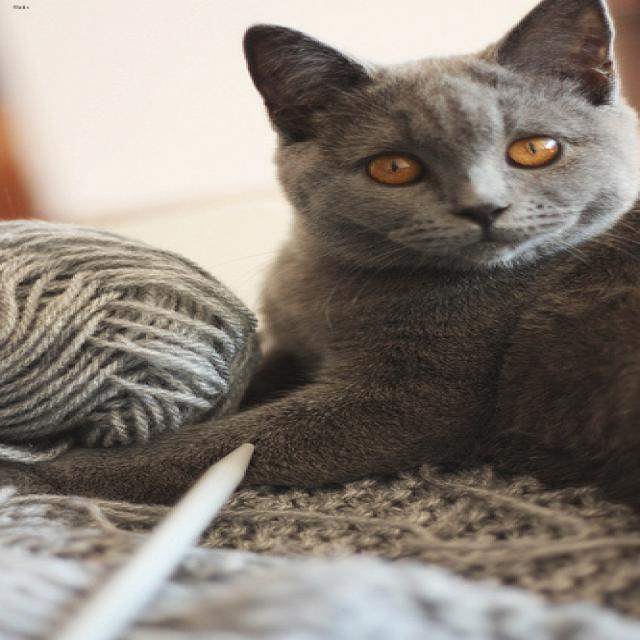British_Shorthair: (238, 0, 615, 261)
